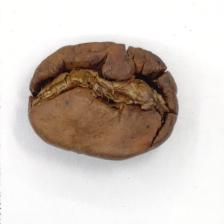NG: (26, 39, 179, 126)
